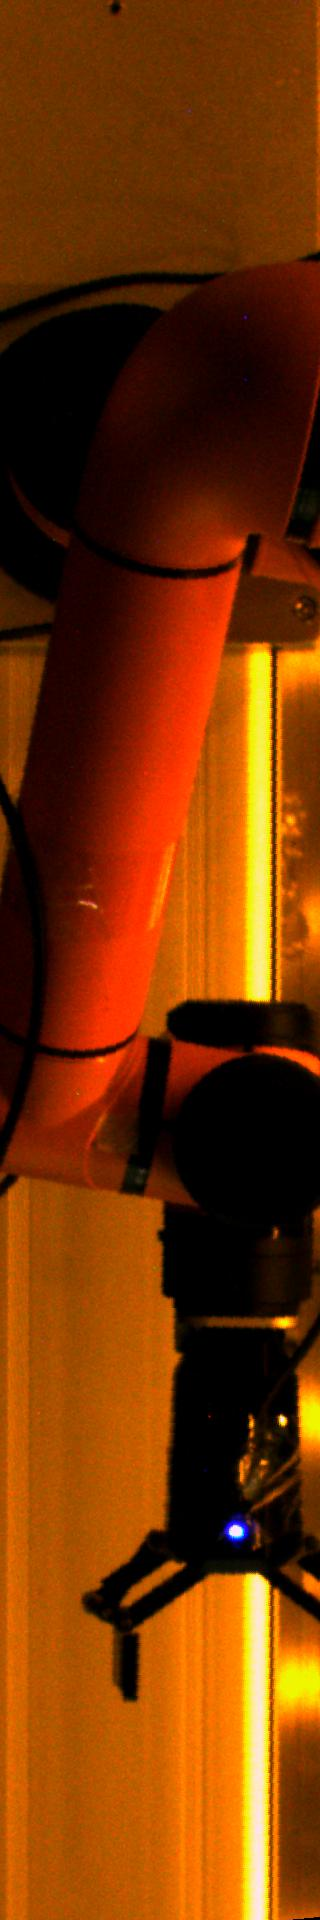keyPoint_1: (221, 1513, 251, 1543)
